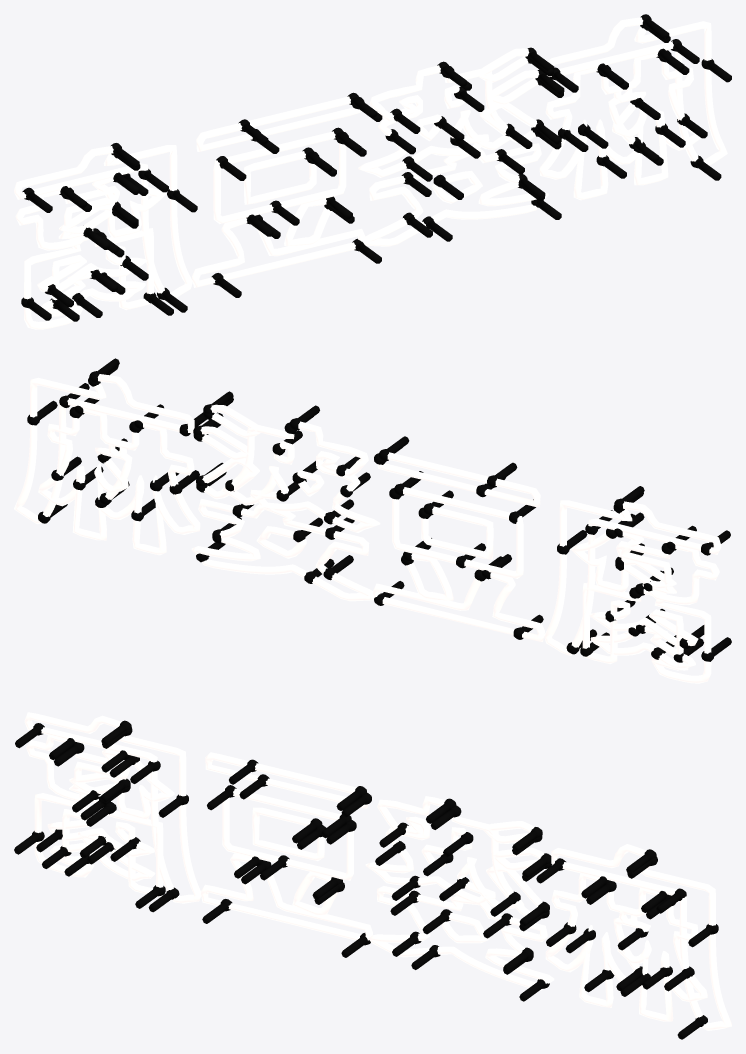
File: neon_ma-bo-doufu.fbx
3 renders of one model, top to bottom at view 1: azimuth 30°, elevation 25°; view 2: azimuth 150°, elevation 25°; view 3: azimuth 330°, elevation 25°, orthographic.
Visible parts, largest first — view 1: NeonEnglish; view 2: NeonEnglish; view 3: NeonEnglish.
Boxes of the visible parts, x1=… form: NeonEnglish: x1=14, y1=14, x2=731, y2=329; NeonEnglish: x1=14, y1=358, x2=731, y2=683; NeonEnglish: x1=14, y1=712, x2=731, y2=1039.
Bounding box in the file's own units: 372 × 85.64 × 21.29.
